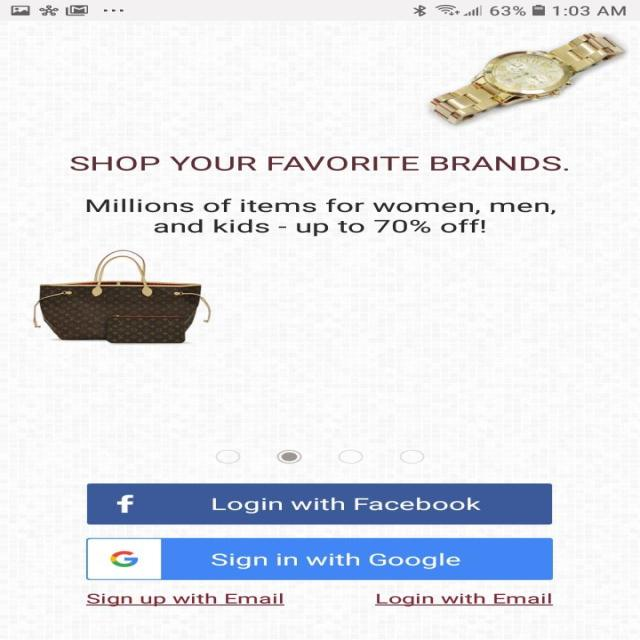Image: (426, 31, 628, 126), (32, 249, 212, 344)
Text: (85, 198, 555, 237), (69, 156, 568, 171), (86, 592, 284, 606), (374, 592, 553, 606)
TextButton: (86, 537, 553, 579), (86, 483, 551, 524)
